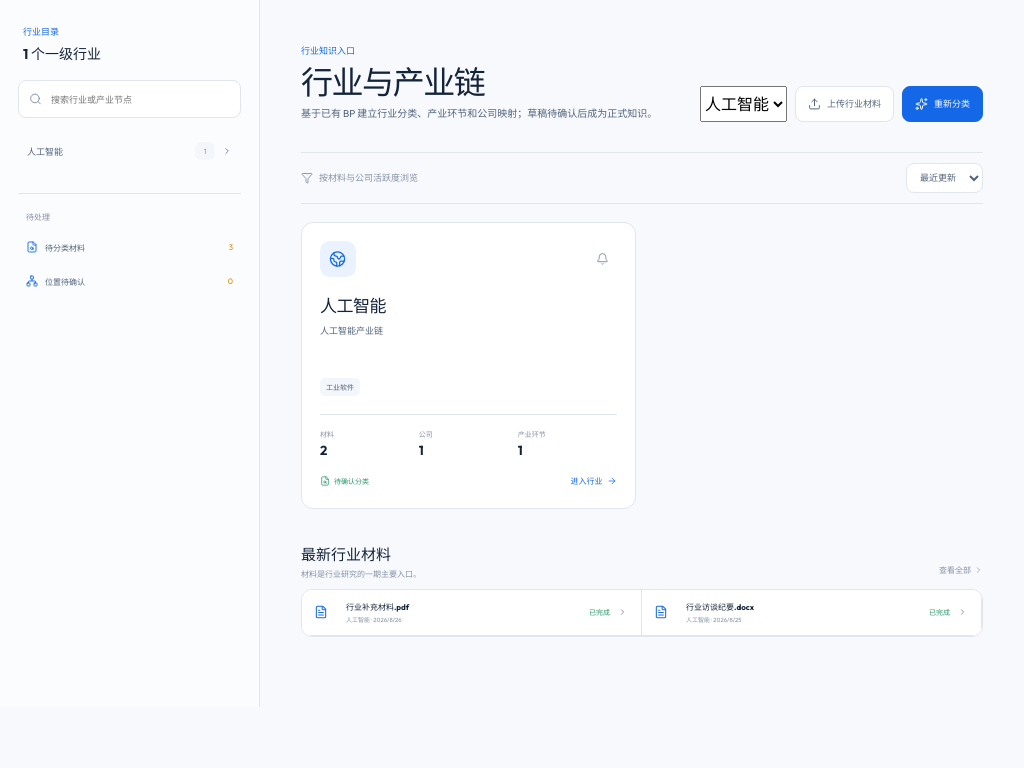
Scenario: 持久行业目录页面 › 草稿行业显示待确认分类，并通过 v1 接缝重新分类
Expected: the text "待确认分类" is shown, [320,472,369,490]
Click the button "重新分类": (942, 104) [902,86,983,122]
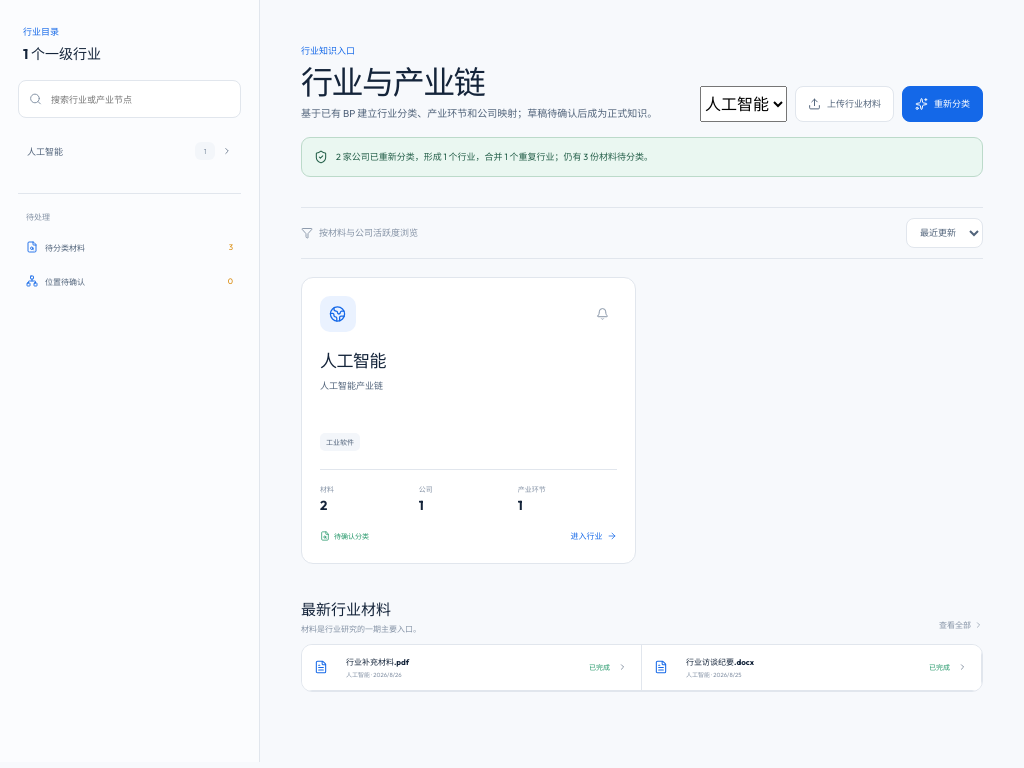
Expected: the text "2 家公司已重新分类，形成 1 个行业，合并 1 个重复行业；仍有 3 份材料待分类。" is shown, [301,137,983,177]
